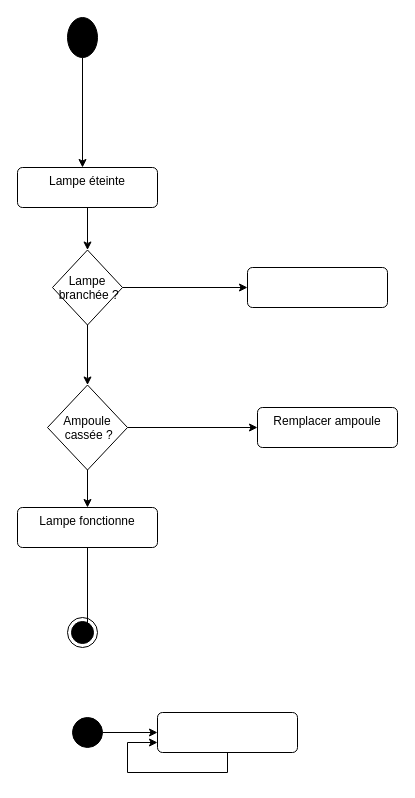
The diagram is 415 pixels wide and 798 high, and some of its shapes have lost their labels. The shapes that lost their labels are listed below. From the top down, each one's box as (x1, y1, x2, y2) in pixels, then its label:
(246, 266, 388, 308): Brancher Lampe
(156, 712, 298, 752): Remplir formulaire
